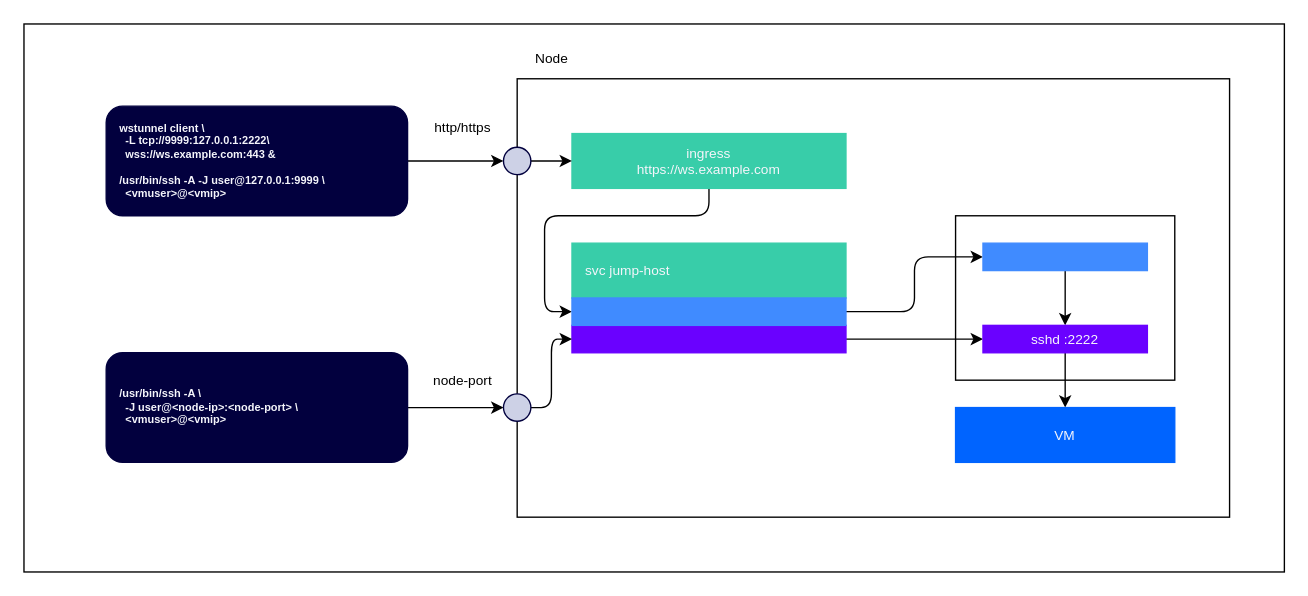
The diagram is 1308 pixels wide and 596 high, and some of its shapes have lost their labels. The shapes that lost their labels are listed below. From the top down, each one's centre as x and y in pixels, then its label:
[1064,256]: wstunnel :8080
[708,311]: ws: 8080 -> 8080
[708,338]: ssh: 2222 -> 2222 / node-port
